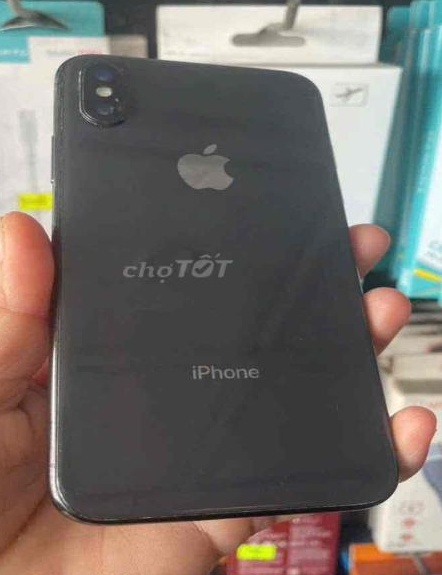scratch: (65, 496, 390, 530), (51, 64, 68, 177), (287, 329, 326, 351), (328, 396, 352, 420), (266, 470, 299, 487), (324, 289, 348, 310), (117, 66, 132, 80)
